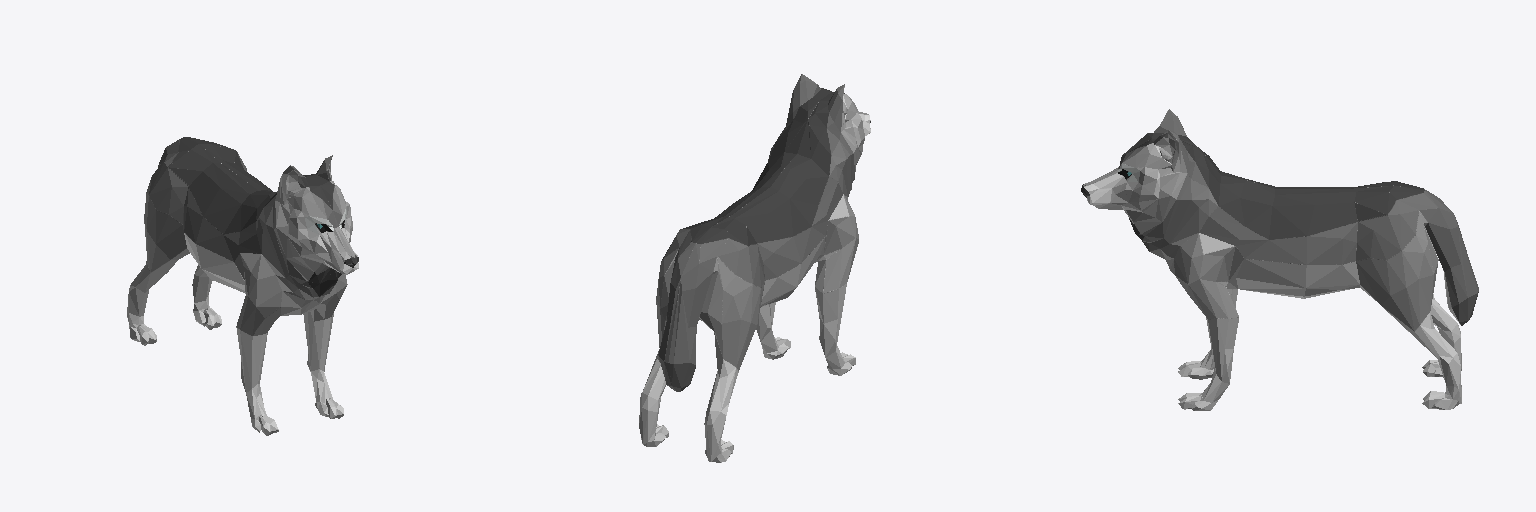
The picture shows the model from 3 angles: view 1: azimuth 30°, elevation 25°; view 2: azimuth 150°, elevation 25°; view 3: azimuth 270°, elevation 25°; orthographic projection.
Visible parts, largest first — view 1: Wolves_Plane.017; view 2: Wolves_Plane.017; view 3: Wolves_Plane.017.
Part boxes in pixels (x1,y1,x2,y2): Wolves_Plane.017: (127,137,358,435); Wolves_Plane.017: (639,74,870,462); Wolves_Plane.017: (1081,109,1478,410).
Size of the model in its own units: 1.15 by 3.14 by 4.16.
Materials: 1 (1 with a texture image).